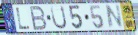5: (67, 4, 84, 31), (88, 5, 105, 30)
B: (29, 5, 49, 32)
L: (15, 7, 31, 31)
N: (105, 4, 124, 31)
U: (50, 5, 69, 31)
